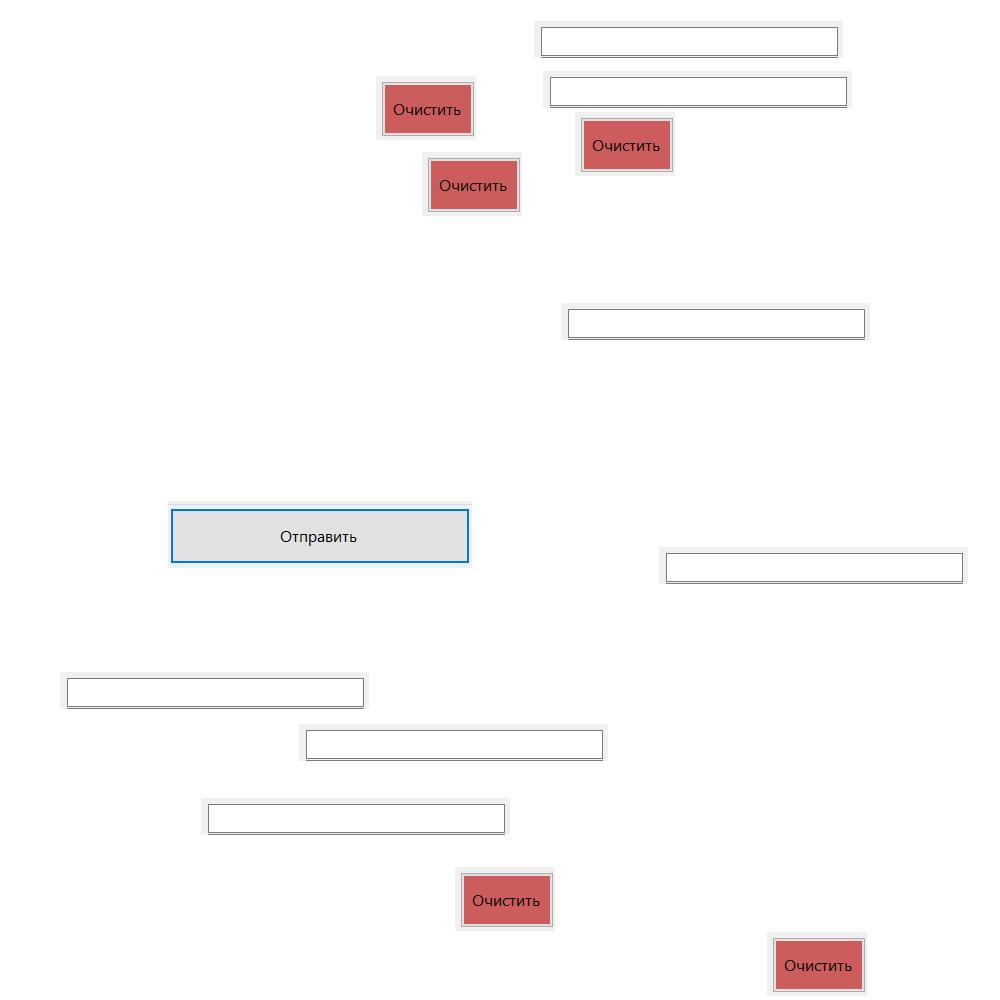Button: (168, 501, 472, 568), (575, 112, 675, 176), (767, 932, 867, 996), (455, 867, 555, 931), (376, 76, 476, 140), (422, 152, 522, 216)
EditText-: (659, 547, 968, 584), (60, 672, 369, 709), (299, 724, 608, 761), (543, 71, 852, 108), (534, 21, 843, 58), (201, 798, 510, 835), (561, 303, 870, 340)
